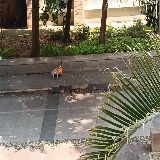fire: (55, 66, 63, 74)
